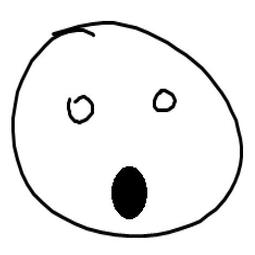empty_eye: (64, 83, 96, 127), (142, 79, 180, 116)
open_mouth: (99, 153, 159, 226)
